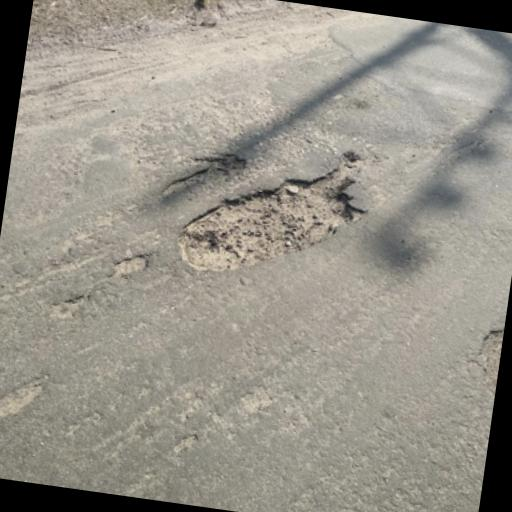pothole: (175, 126, 377, 296), (158, 142, 250, 212), (0, 362, 54, 442), (474, 324, 504, 389), (106, 246, 156, 282)
